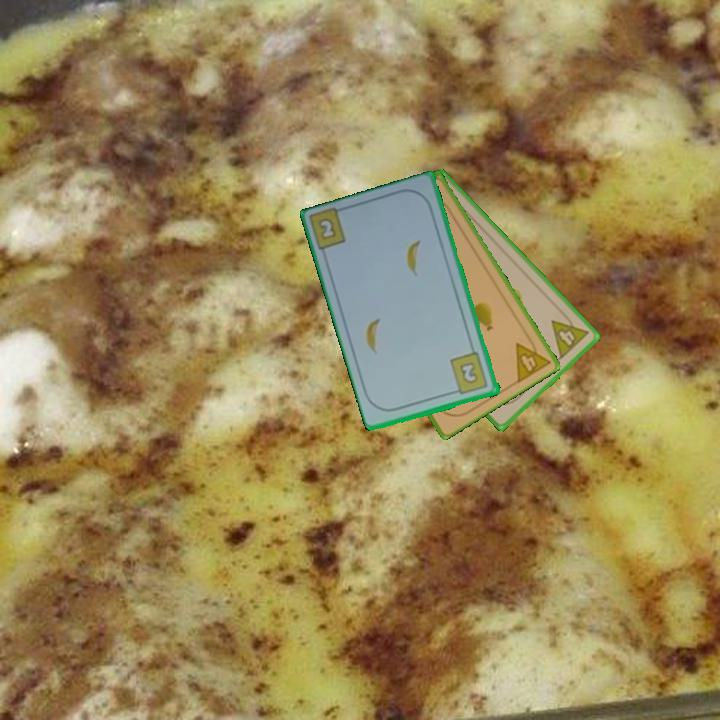2b: (307, 204, 350, 255), (447, 349, 491, 398)
4p: (548, 307, 592, 362), (512, 331, 553, 386)
